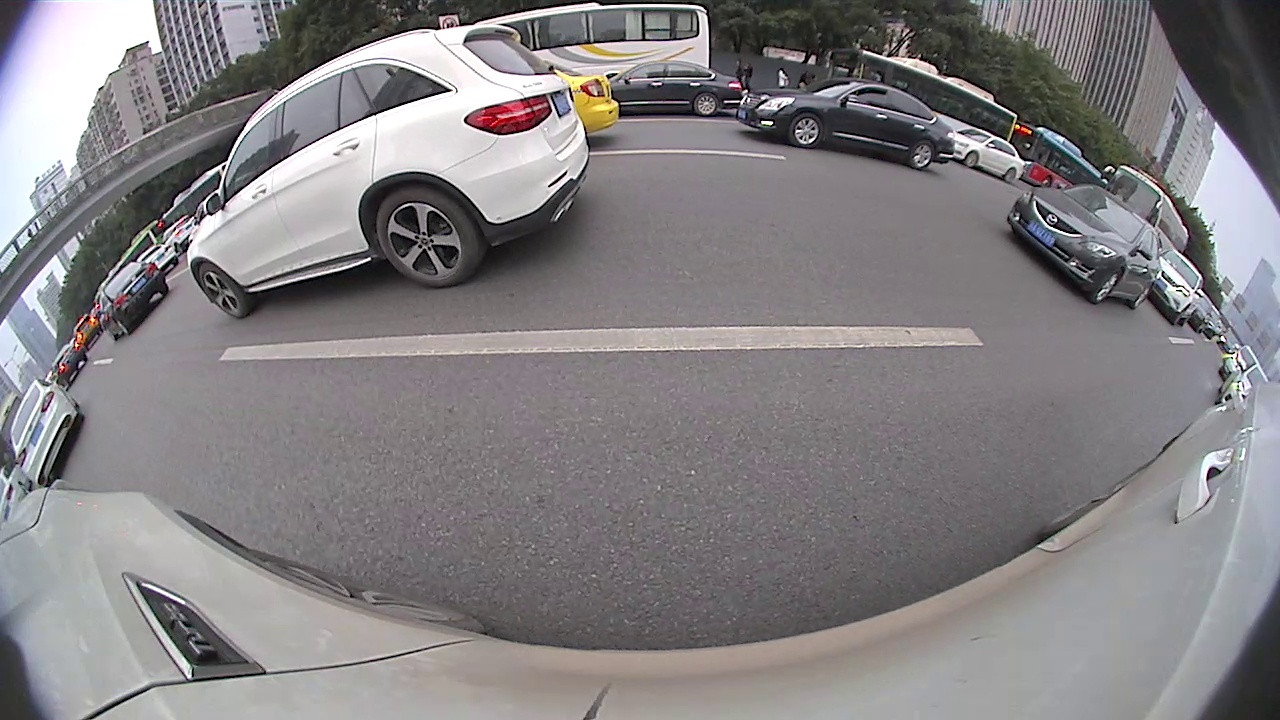bus: (472, 3, 713, 84), (824, 46, 1019, 144), (1103, 163, 1191, 256), (1007, 118, 1113, 195)
car: (185, 21, 599, 322), (737, 75, 957, 171), (1007, 182, 1161, 311), (599, 57, 749, 120), (10, 378, 86, 489), (534, 59, 619, 136), (94, 259, 170, 341), (1145, 245, 1205, 326), (949, 128, 1025, 185), (52, 343, 89, 388), (136, 242, 180, 276), (70, 313, 104, 350)
front: (196, 264, 246, 319), (1092, 268, 1122, 305), (792, 115, 821, 146), (965, 151, 978, 167)
rear: (380, 190, 476, 285), (911, 140, 933, 168), (695, 94, 717, 116), (1004, 169, 1017, 183)
